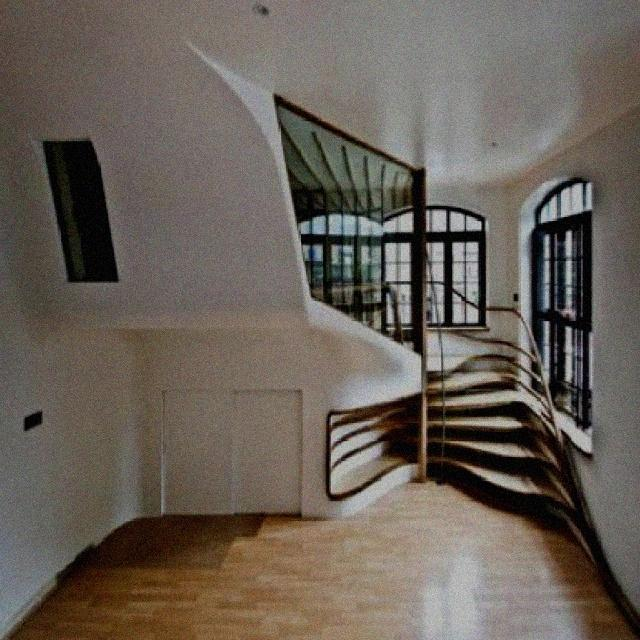stair: (348, 274, 630, 548)
